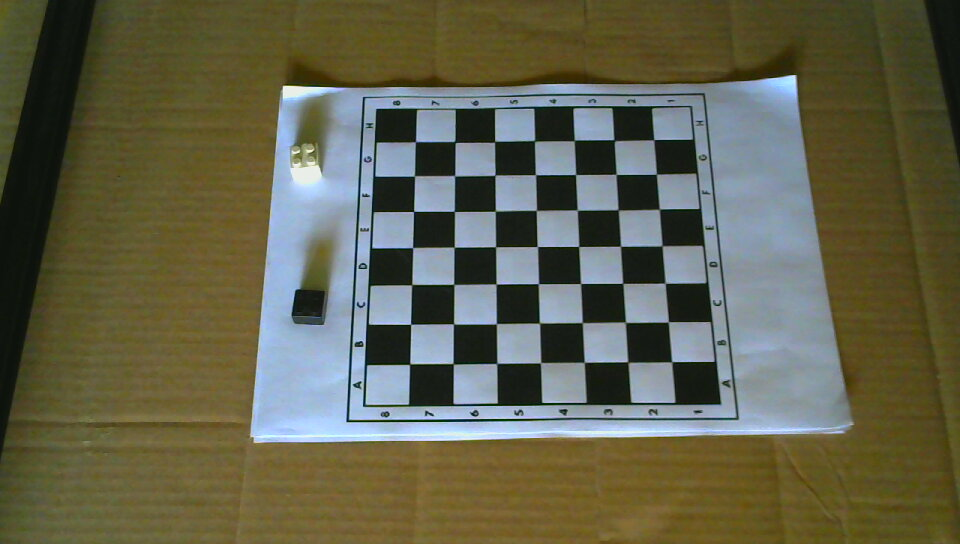bp: (292, 287, 327, 326)
wp: (287, 142, 322, 179)
